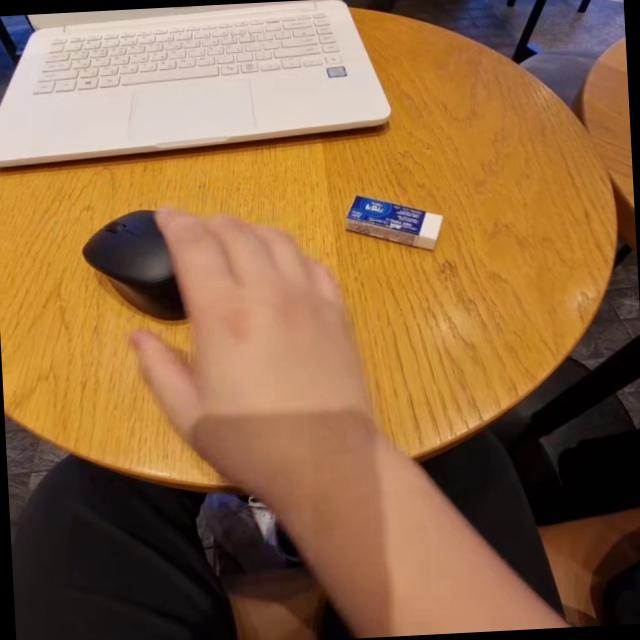eraser: (340, 176, 453, 261)
grab_mouse: (75, 191, 372, 517)
hand: (159, 198, 359, 518)
mouse: (60, 185, 188, 318)
